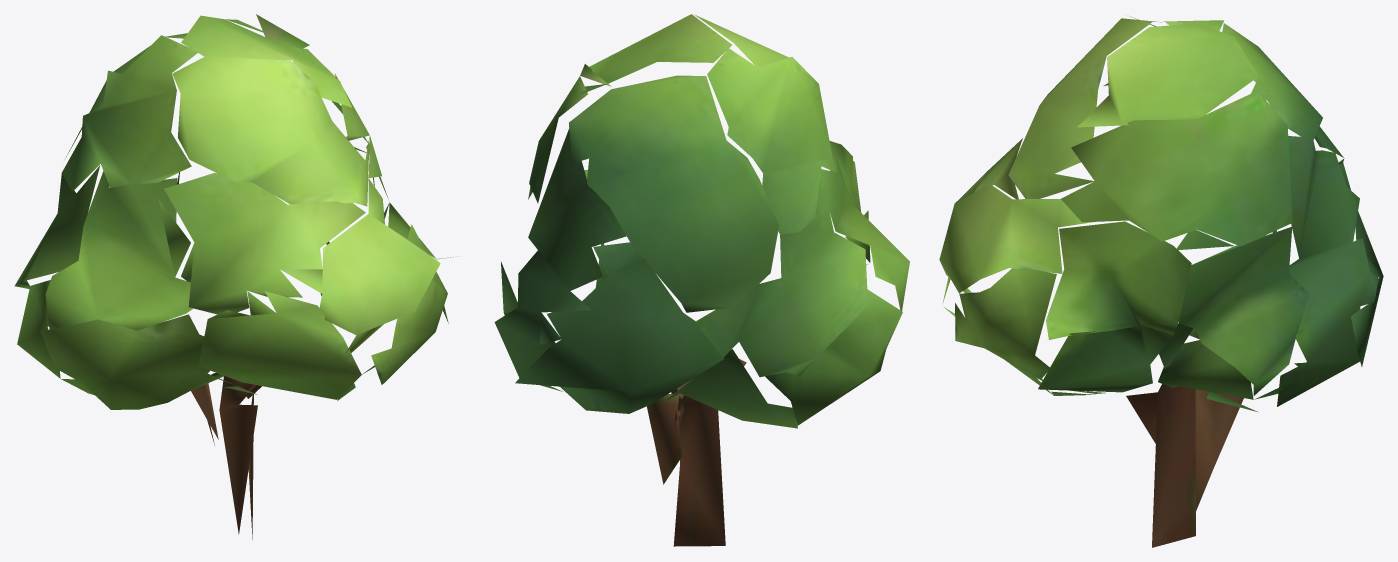
File: tree_bushy_far.glb
3 renders of one model, left to right at view 1: azimuth 30°, elevation 25°; view 2: azimuth 150°, elevation 25°; view 3: azimuth 270°, elevation 25°, orthographic.
Visible parts, largest first — view 1: tripo_node_01a21d0b-93ba-7a0a-bc0a-7fc536f1d418; view 2: tripo_node_01a21d0b-93ba-7a0a-bc0a-7fc536f1d418; view 3: tripo_node_01a21d0b-93ba-7a0a-bc0a-7fc536f1d418.
Boxes of the visible parts, x1,y1,x2,y2 form: tripo_node_01a21d0b-93ba-7a0a-bc0a-7fc536f1d418: (14,14,456,539); tripo_node_01a21d0b-93ba-7a0a-bc0a-7fc536f1d418: (494,14,909,546); tripo_node_01a21d0b-93ba-7a0a-bc0a-7fc536f1d418: (939,16,1383,547).
Size of the model in its own units: 4.97 by 6.28 by 5.
Materials: 1 (1 with a texture image).
